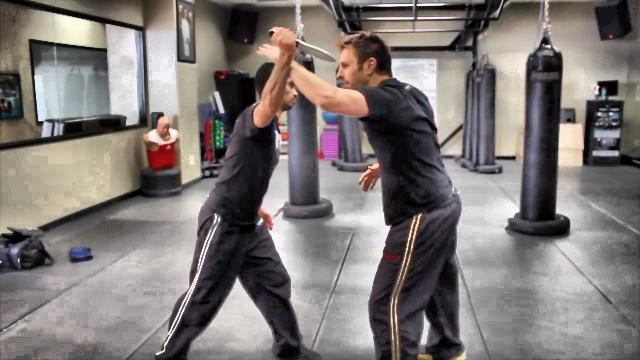knife: (267, 26, 337, 62)
